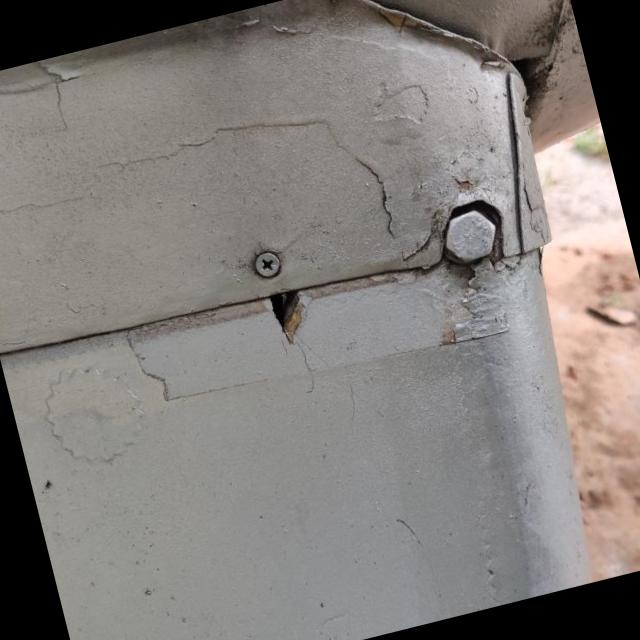Crack: (270, 290, 311, 344)
